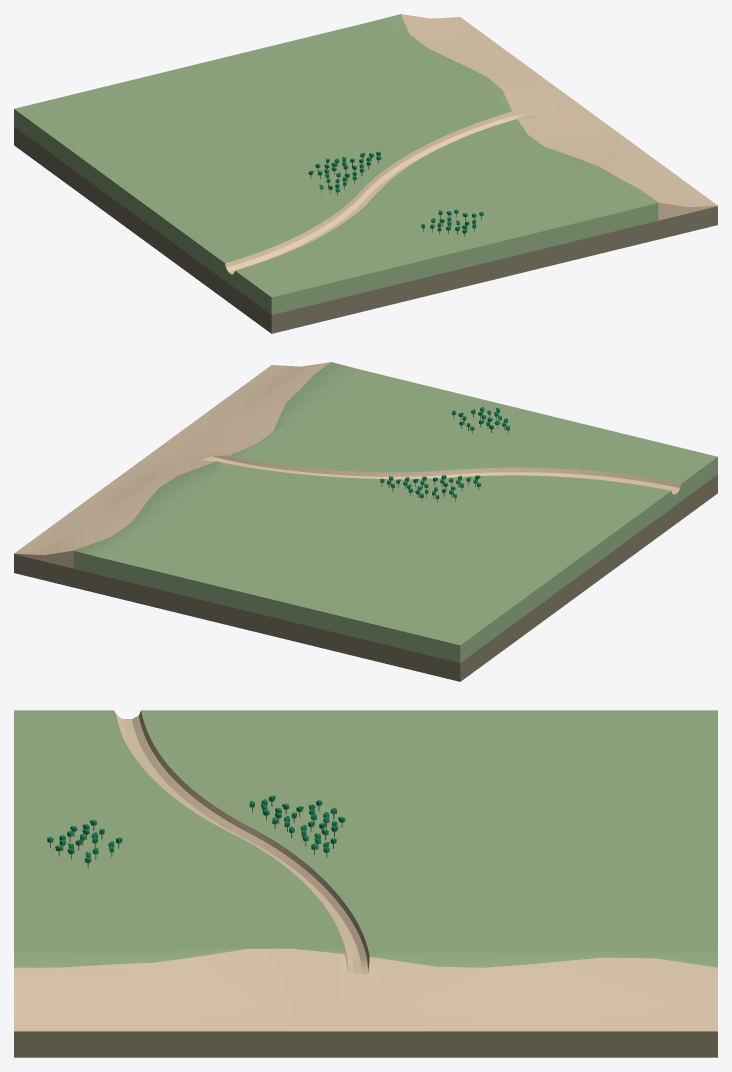
The model's file is Mapper2.fbx.
3 views of the same model, one above another, from view 1: azimuth 30°, elevation 25°; view 2: azimuth 150°, elevation 25°; view 3: azimuth 270°, elevation 25° (orthographic). The views are drawn at different scales.
Parts seen in each view (by area): view 1: Mapper1; view 2: Mapper1; view 3: Mapper1.
Boxes of the visible parts, x1=… form: Mapper1: x1=14, y1=14, x2=717, y2=333; Mapper1: x1=14, y1=362, x2=717, y2=681; Mapper1: x1=14, y1=710, x2=717, y2=1057.
Size of the model in its own units: 23.74 by 2.24 by 23.74.
